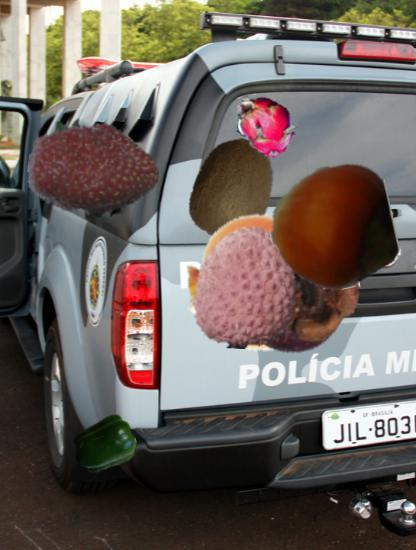Kiwi: (182, 138, 285, 241)
Lychee: (183, 224, 308, 349)
Mangostan: (236, 236, 362, 362)
Nut: (270, 167, 394, 291)
Pepper: (73, 412, 136, 475)
Physalis: (184, 210, 329, 355)
Pitahaya: (228, 88, 300, 160)
Strawberry: (28, 103, 160, 235)
